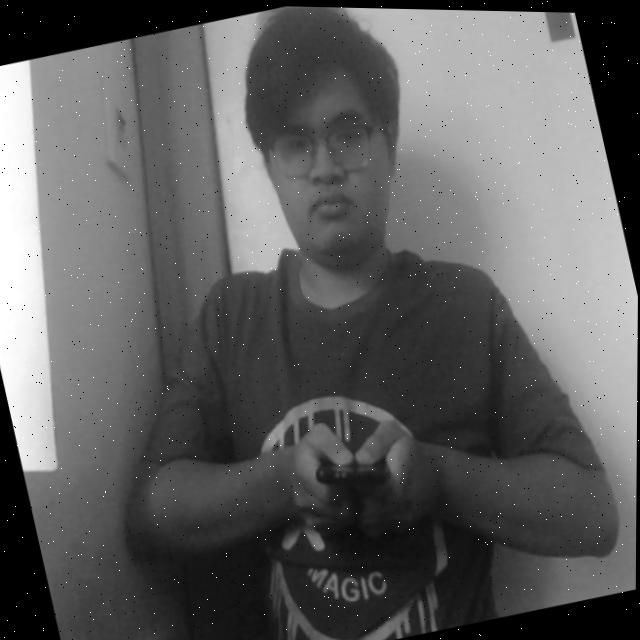phone: (298, 401, 412, 531)
